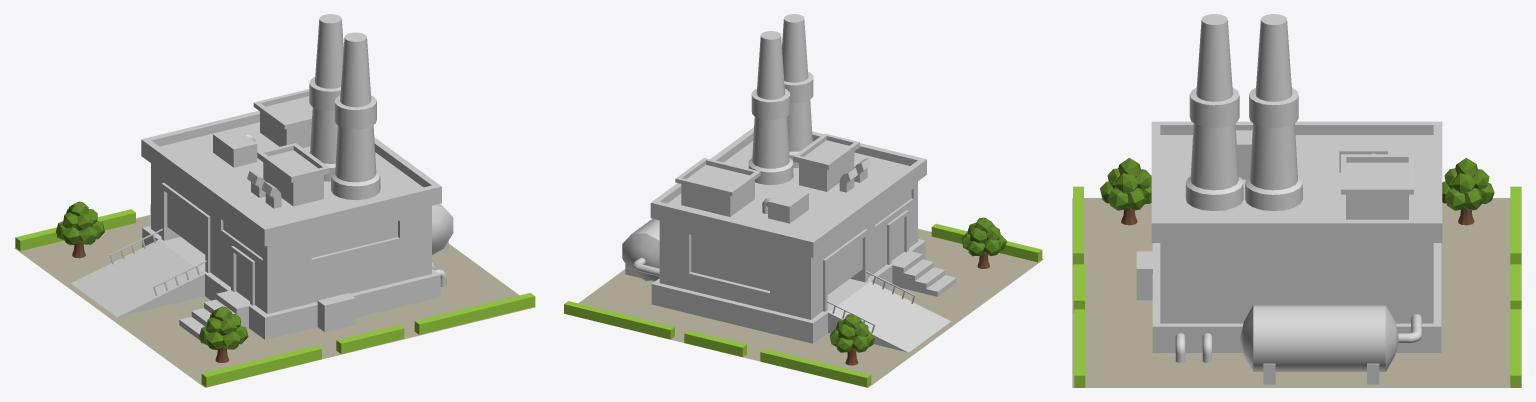
The model's file is factory4.gltf.
The picture shows the model from 3 angles, left to right: view 1: azimuth 30°, elevation 25°; view 2: azimuth 150°, elevation 25°; view 3: azimuth 270°, elevation 25°; orthographic projection. The views are drawn at different scales.
Visible parts, largest first — view 1: Box002, Natures_Grass Tile_Plane.010, Natures_Grass Fence_Cube.006, Natures_Grass Fence_Cube.004, Natures_Big Tree_Mesh.002, Natures_Big Tree_Mesh.001, Natures_Grass Fence_Cube.001, Natures_Grass Fence_Cube.005; view 2: Box002, Natures_Grass Tile_Plane.010, Natures_Grass Fence_Cube.001, Natures_Grass Fence_Cube.003, Natures_Big Tree_Mesh.002, Natures_Big Tree_Mesh.001, Natures_Grass Fence_Cube.004, Natures_Grass Fence_Cube.002; view 3: Box002, Natures_Grass Tile_Plane.010, Natures_Big Tree_Mesh.002, Natures_Big Tree_Mesh.001, Natures_Grass Fence_Cube.003, Natures_Grass Fence_Cube.001, Natures_Grass Fence_Cube.006, Natures_Grass Fence_Cube.004, Natures_Grass Fence_Cube.005, Natures_Grass Fence_Cube.002.
Part boxes in pixels (box(x1,y1,x2,y2)): Box002: box(71, 14, 453, 339); Natures_Grass Tile_Plane.010: box(14, 215, 535, 387); Natures_Grass Fence_Cube.006: box(414, 293, 535, 334); Natures_Grass Fence_Cube.004: box(201, 345, 321, 387); Natures_Big Tree_Mesh.002: box(56, 201, 104, 258); Natures_Big Tree_Mesh.001: box(199, 306, 248, 362); Natures_Grass Fence_Cube.001: box(15, 209, 135, 251); Natures_Grass Fence_Cube.005: box(336, 325, 404, 353); Box002: box(622, 14, 956, 352); Natures_Grass Tile_Plane.010: box(578, 228, 1043, 387); Natures_Grass Fence_Cube.001: box(760, 349, 871, 387); Natures_Grass Fence_Cube.003: box(564, 301, 674, 339); Natures_Big Tree_Mesh.002: box(830, 314, 874, 365); Natures_Big Tree_Mesh.001: box(961, 217, 1006, 268); Natures_Grass Fence_Cube.004: box(931, 223, 1042, 262); Natures_Grass Fence_Cube.002: box(684, 330, 746, 357); Box002: box(1136, 14, 1442, 384); Natures_Grass Tile_Plane.010: box(1072, 198, 1510, 387); Natures_Big Tree_Mesh.002: box(1442, 158, 1494, 225); Natures_Big Tree_Mesh.001: box(1100, 158, 1151, 225); Natures_Grass Fence_Cube.003: box(1510, 309, 1521, 387); Natures_Grass Fence_Cube.001: box(1510, 186, 1521, 264); Natures_Grass Fence_Cube.006: box(1074, 309, 1085, 387); Natures_Grass Fence_Cube.004: box(1073, 186, 1083, 265); Natures_Grass Fence_Cube.005: box(1073, 264, 1084, 312); Natures_Grass Fence_Cube.002: box(1510, 264, 1521, 309).
Size of the model in its own units: 40 by 29.58 by 40.
Materials: 9 (8 with a texture image).
